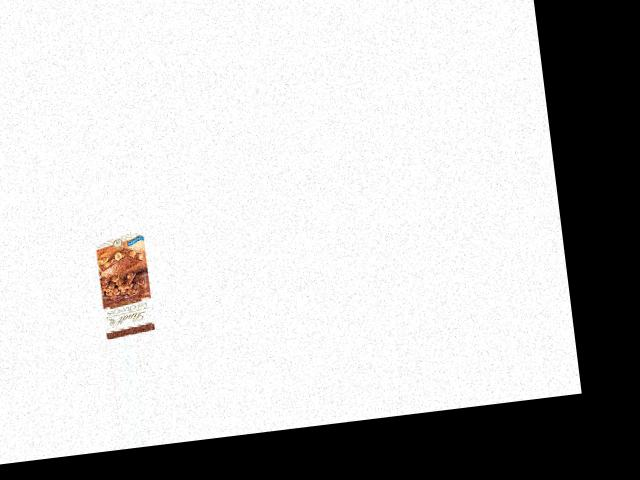chocolate: (86, 233, 158, 337)
